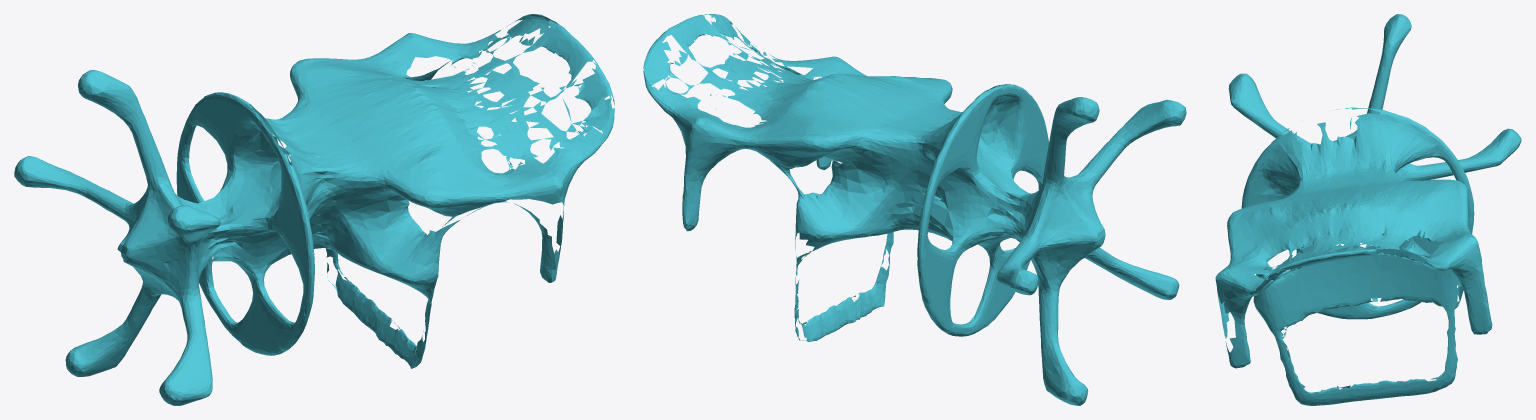
The picture shows the model from 3 angles, left to right: view 1: azimuth 30°, elevation 25°; view 2: azimuth 150°, elevation 25°; view 3: azimuth 270°, elevation 25°; orthographic projection. The views are drawn at different scales.
Parts seen in each view (by area): view 1: Renderer Node; view 2: Renderer Node; view 3: Renderer Node.
Part boxes in pixels (x1,y1,x2,y2): Renderer Node: [14, 14, 614, 405]; Renderer Node: [643, 14, 1186, 405]; Renderer Node: [1215, 14, 1521, 405].
Size of the model in its own units: 0.726 by 0.4794 by 0.4776.
1 material, 1 textured.
